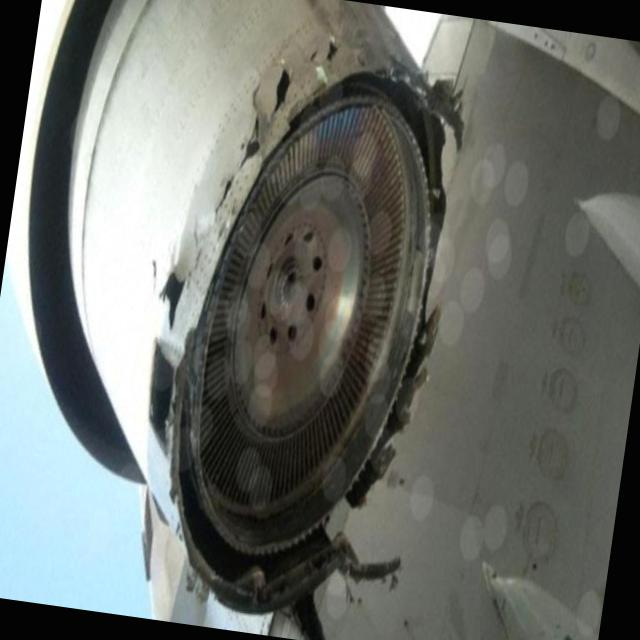crack: (148, 8, 350, 357)
